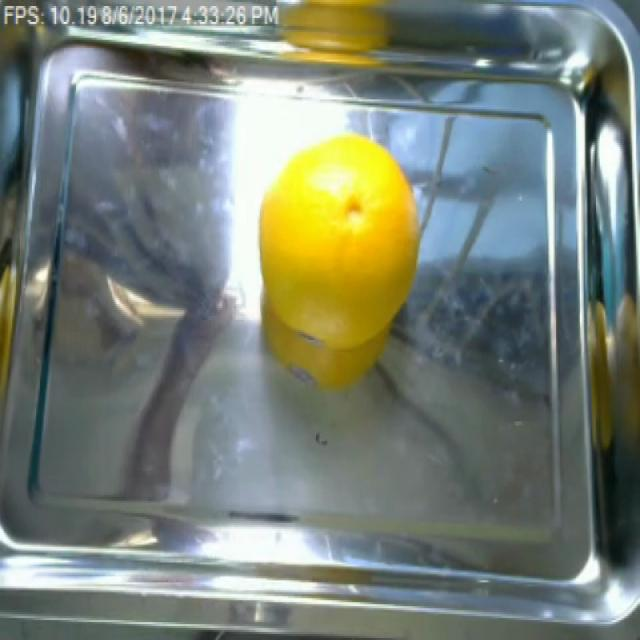Fruit: (251, 125, 428, 390), (266, 0, 422, 64)
